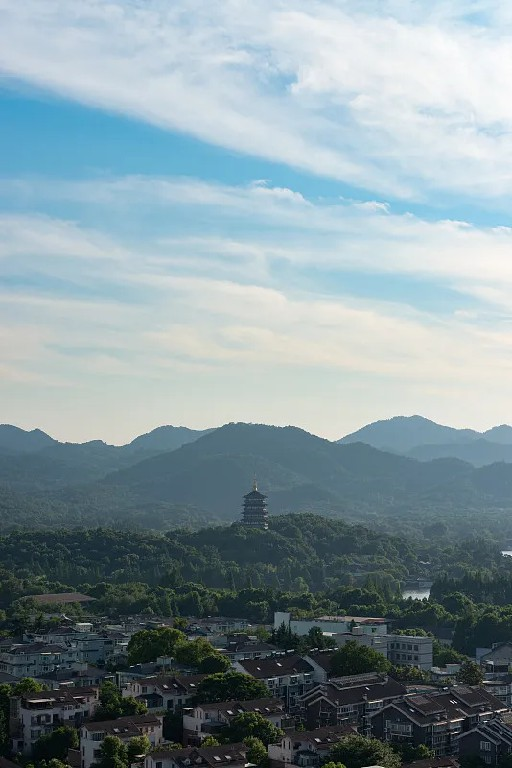Leifeng: (242, 477, 267, 533)
